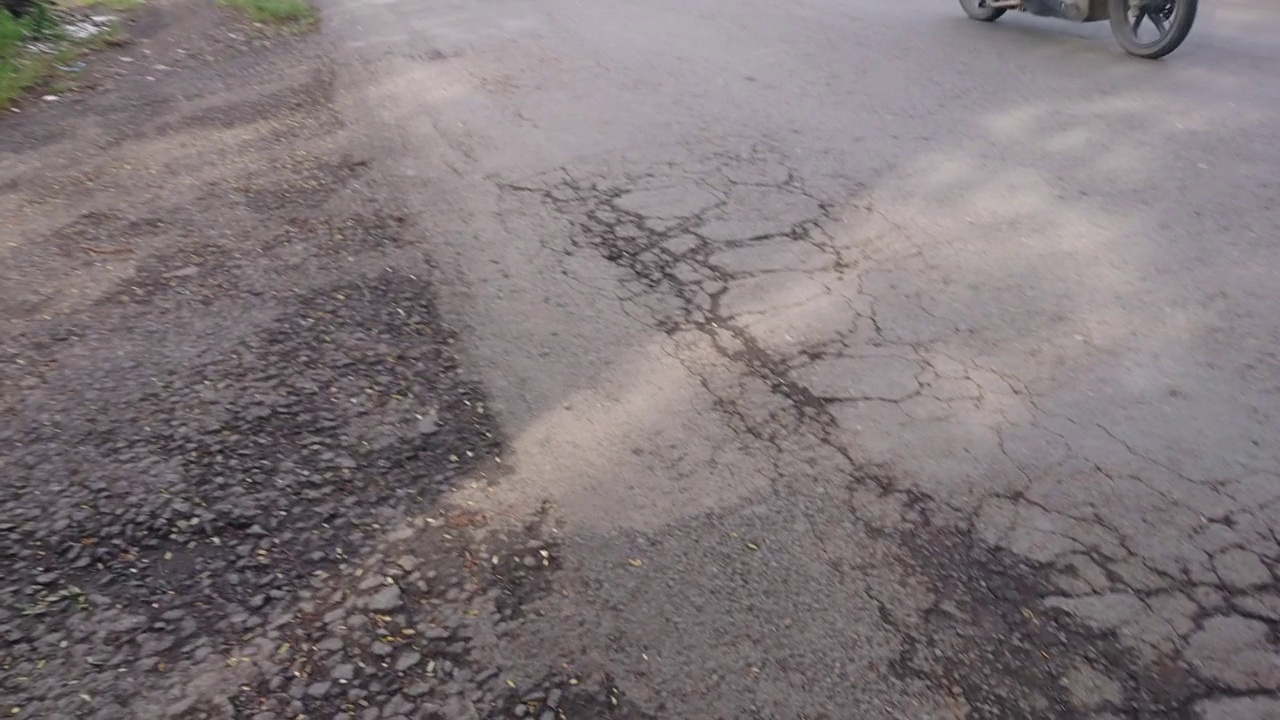Retak: (853, 456, 1280, 720), (594, 200, 862, 456)
